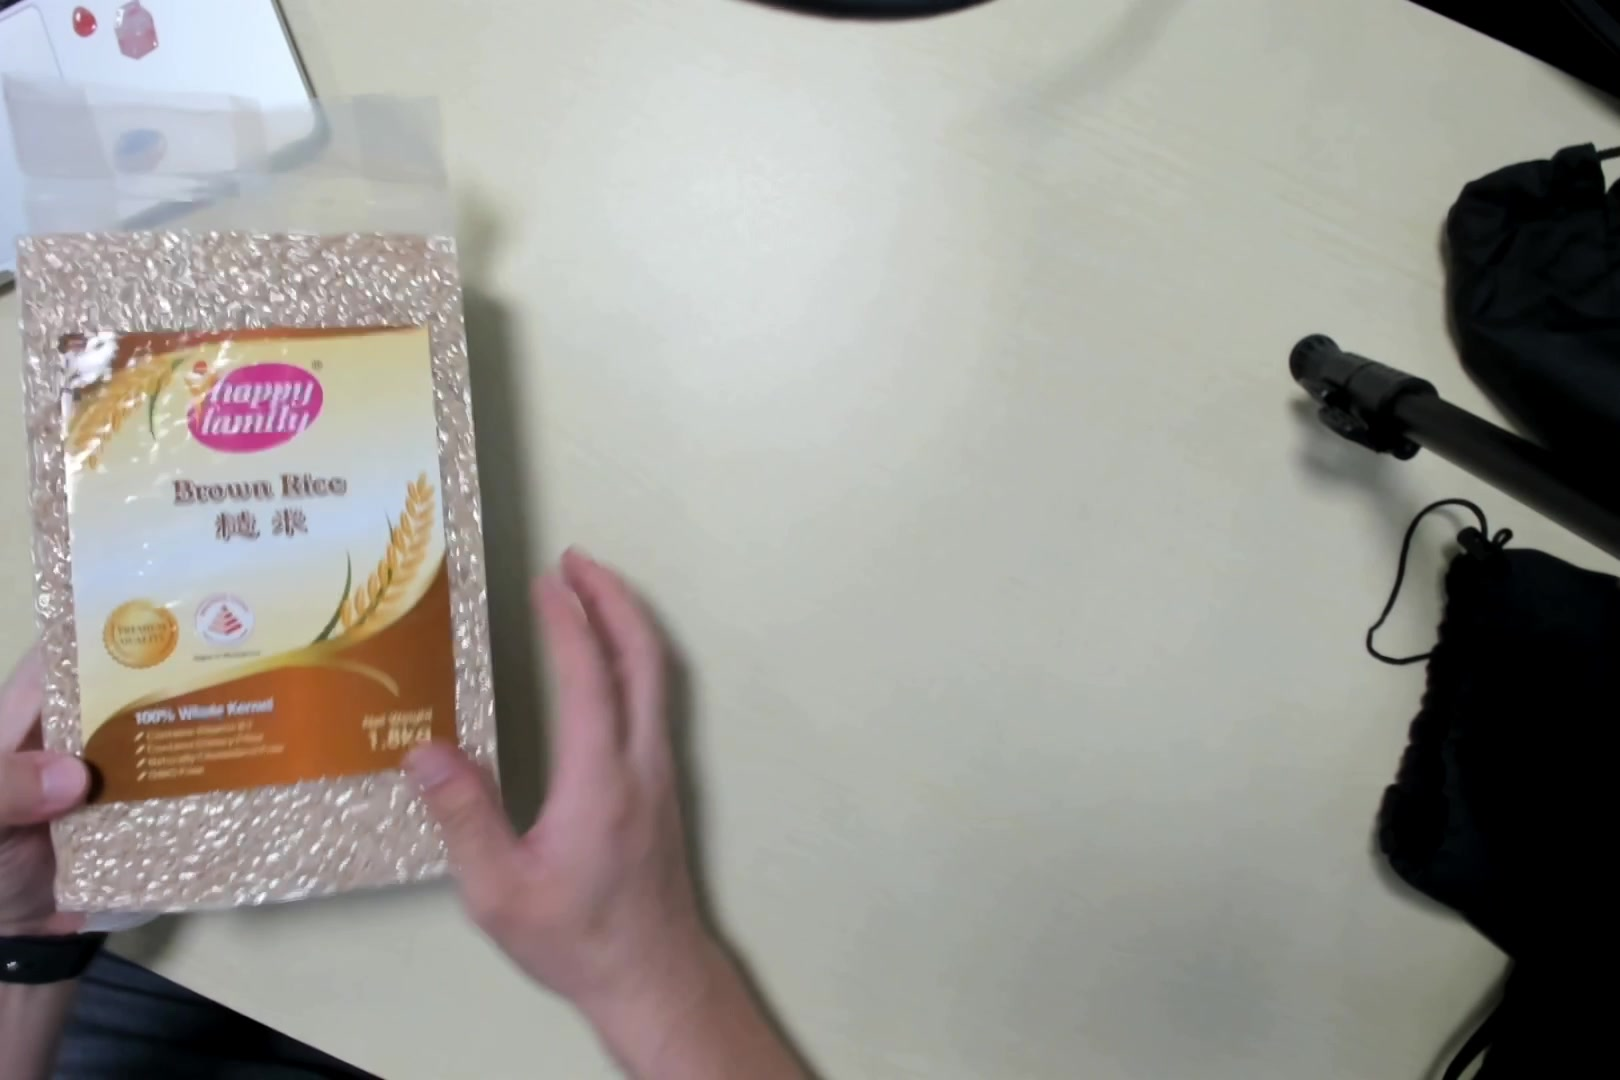Rice(BrownOthers)_1000-1999g_NonHalal_Healthy: (4, 83, 507, 896)
